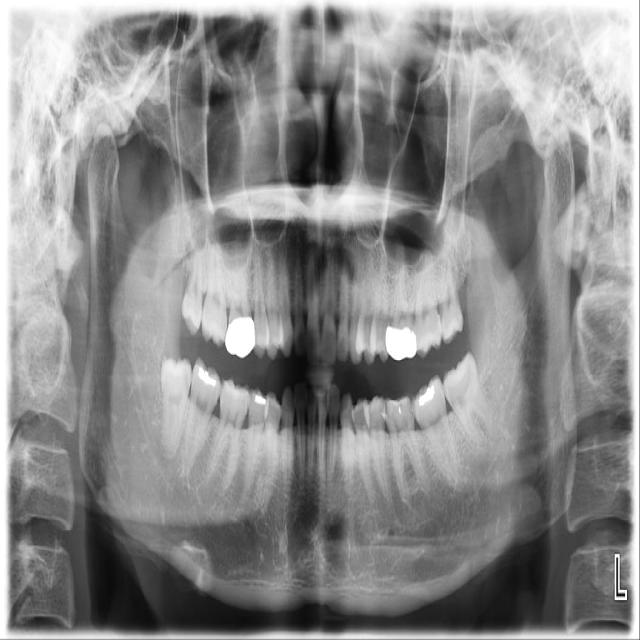Crown: (225, 313, 256, 359), (384, 325, 419, 361)
Filling: (380, 399, 411, 420), (196, 364, 220, 388), (416, 384, 437, 409), (251, 393, 267, 405)
impacted tooth: (442, 352, 506, 444), (160, 359, 192, 462)
